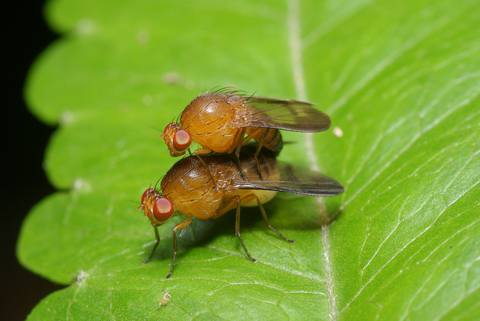Fruit fly: (137, 149, 347, 286), (141, 76, 325, 162)
